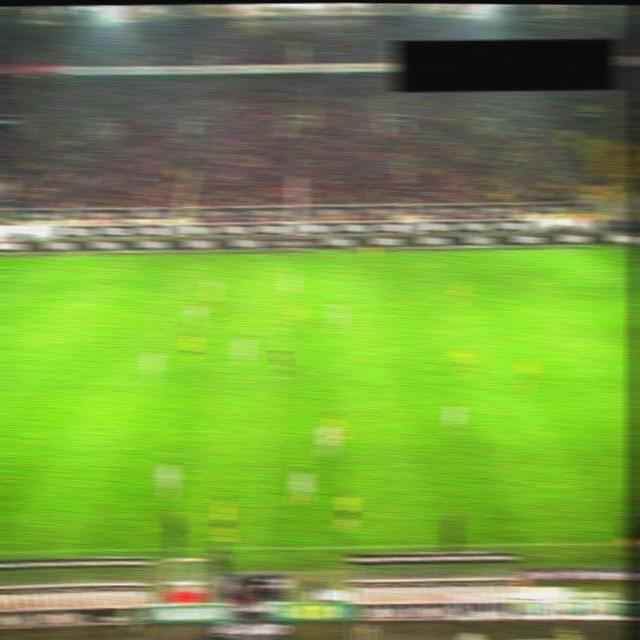bigarea_top_inner: (530, 274, 553, 286), (25, 279, 43, 290)
bottom_arc_area_intersection: (616, 357, 635, 369)
corner: (607, 244, 626, 255)
halfcircle_bottom: (268, 371, 287, 383)
halfcircle_top: (276, 305, 295, 316)
midline_bottom_intersection: (246, 539, 270, 555)
midline_top_intersection: (283, 250, 302, 261)
top_arc_area_intersection: (562, 306, 586, 318)
